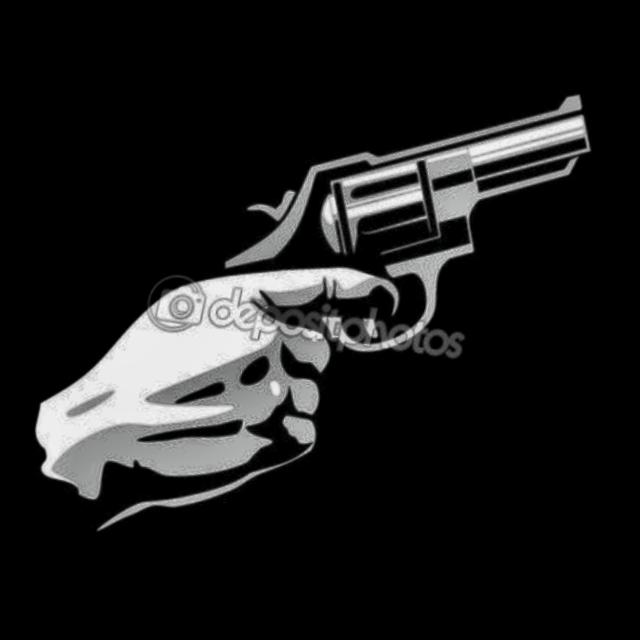pistol: (200, 33, 617, 403)
